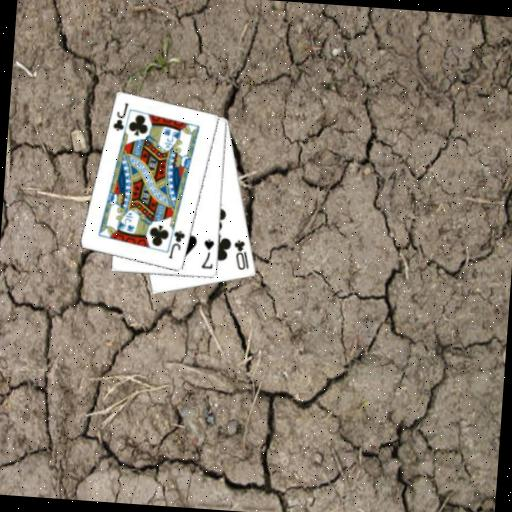10C: (229, 237, 252, 272)
7S: (199, 236, 216, 271)
JC: (165, 227, 187, 262), (110, 99, 131, 134)
